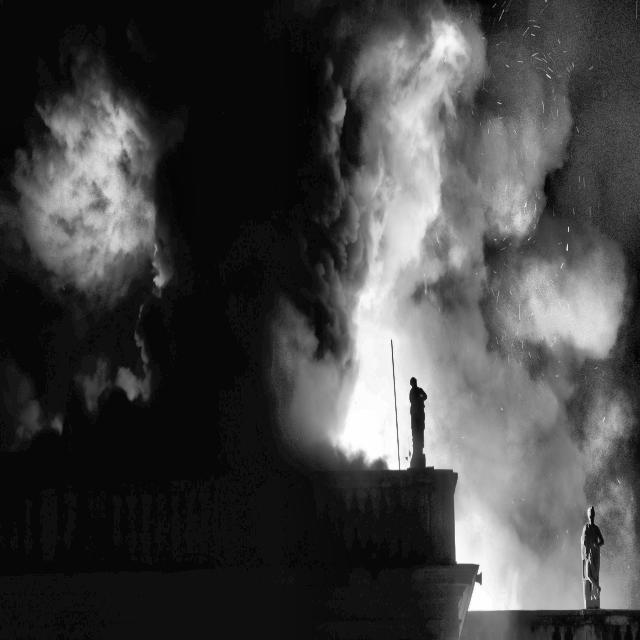fire: (313, 177, 545, 627)
